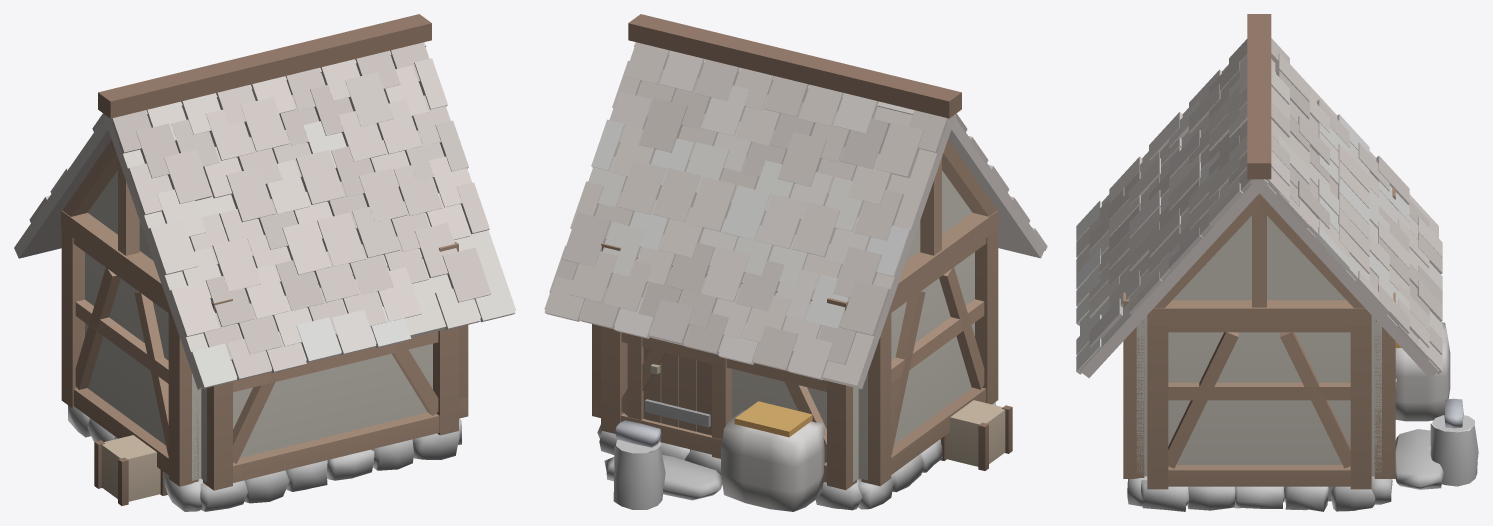
Rendered from hw_toolsmith.glb.
3 views of the same model, side by side, from view 1: azimuth 30°, elevation 25°; view 2: azimuth 150°, elevation 25°; view 3: azimuth 270°, elevation 25° (orthographic). The views are drawn at different scales.
Visible parts, largest first — view 1: Building; view 2: Building; view 3: Building.
Boxes of the visible parts, x1,y1,x2,y2 form: Building: (14,14,515,511); Building: (544,14,1047,511); Building: (1076,14,1478,511).
Size of the model in its own units: 2.5 by 2.67 by 2.69.
